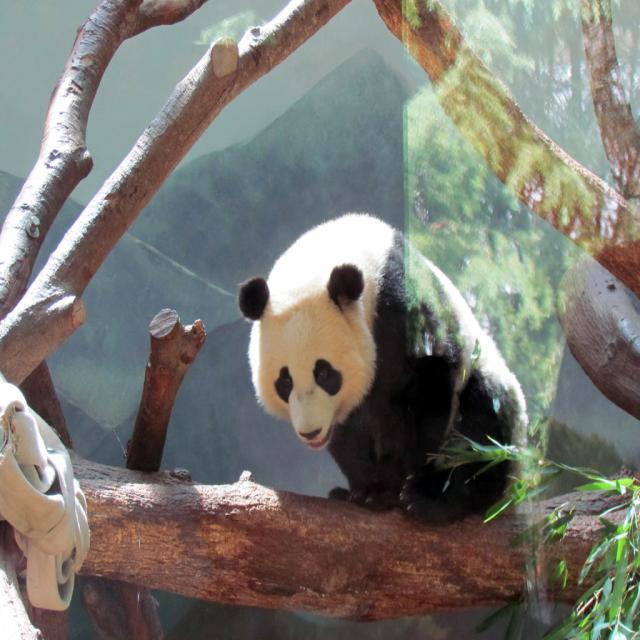panda: (231, 211, 536, 532)
